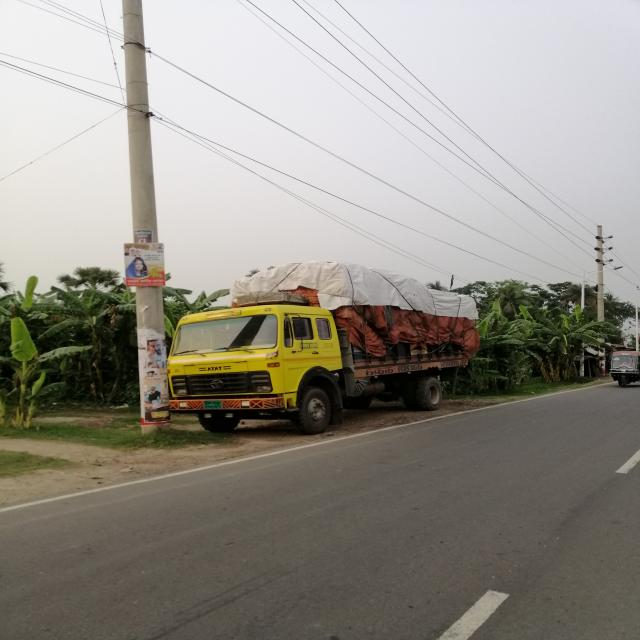Truck: (169, 262, 484, 435)
